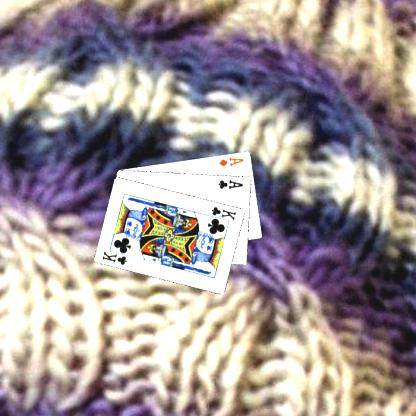AC: (216, 177, 244, 190)
AD: (216, 154, 245, 168)
KC: (205, 204, 237, 223), (100, 247, 132, 266)
